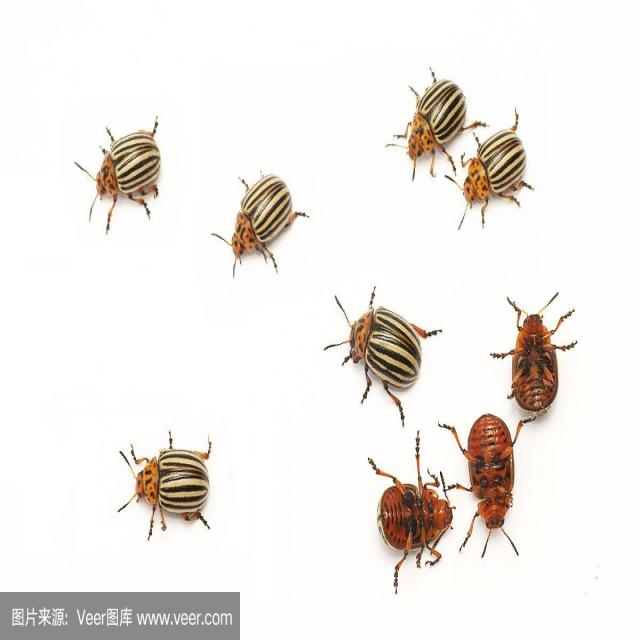ShuCaiHuaBanChong-Grown-: (125, 398, 217, 531), (342, 278, 431, 399), (226, 160, 314, 274), (463, 412, 528, 538), (70, 111, 162, 200), (456, 116, 532, 220), (368, 483, 454, 563), (410, 58, 473, 152), (519, 296, 565, 419)
